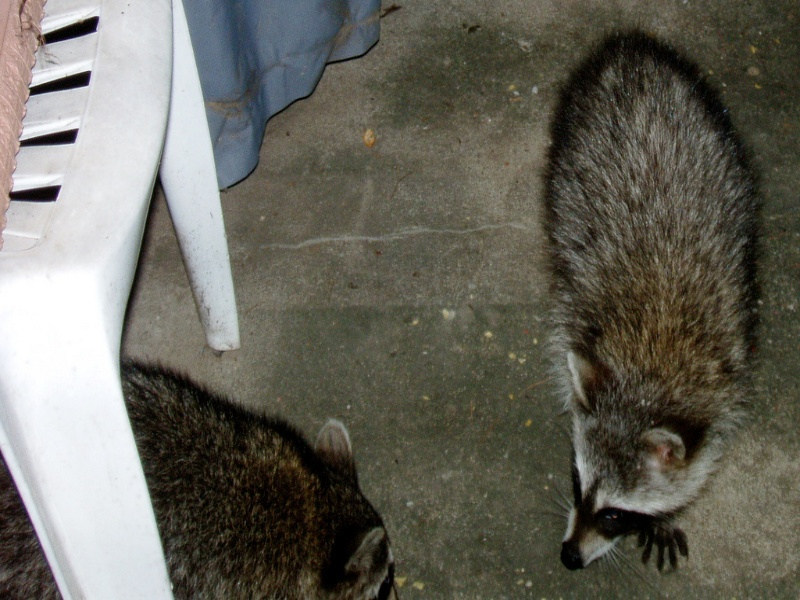raccoon: (530, 29, 762, 584), (7, 349, 418, 600)
